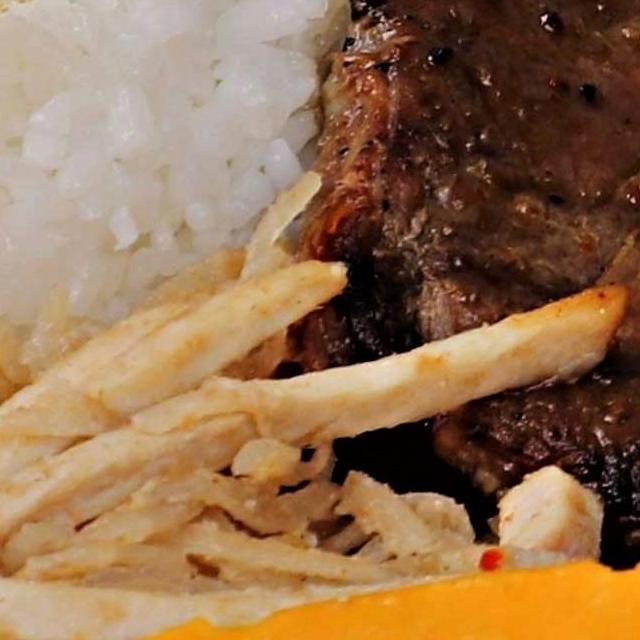bi: (0, 0, 416, 584)
com: (0, 0, 640, 383)
suon: (0, 294, 640, 640)
